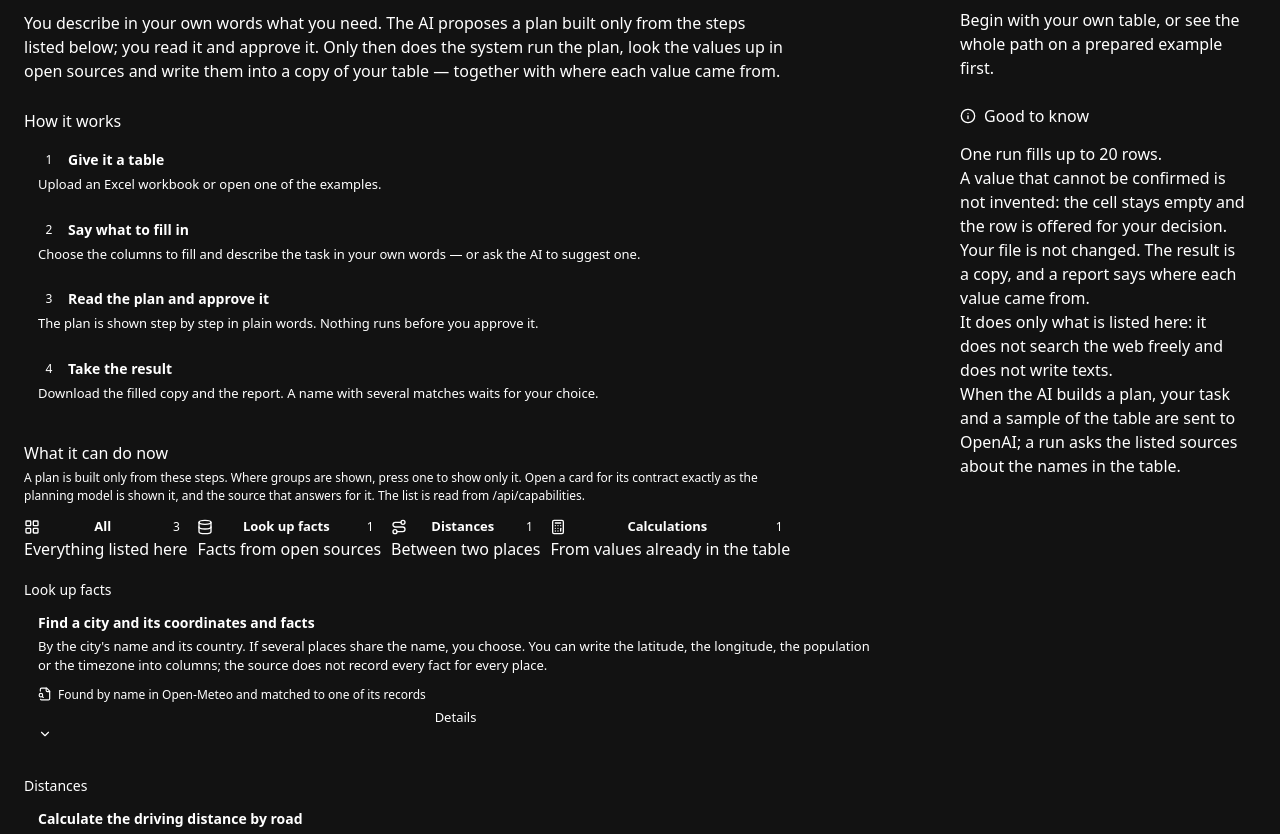
adds the contract in Advanced
Click the button "Details" at (456, 724), box [38,708,873,741]
(page scrolled)
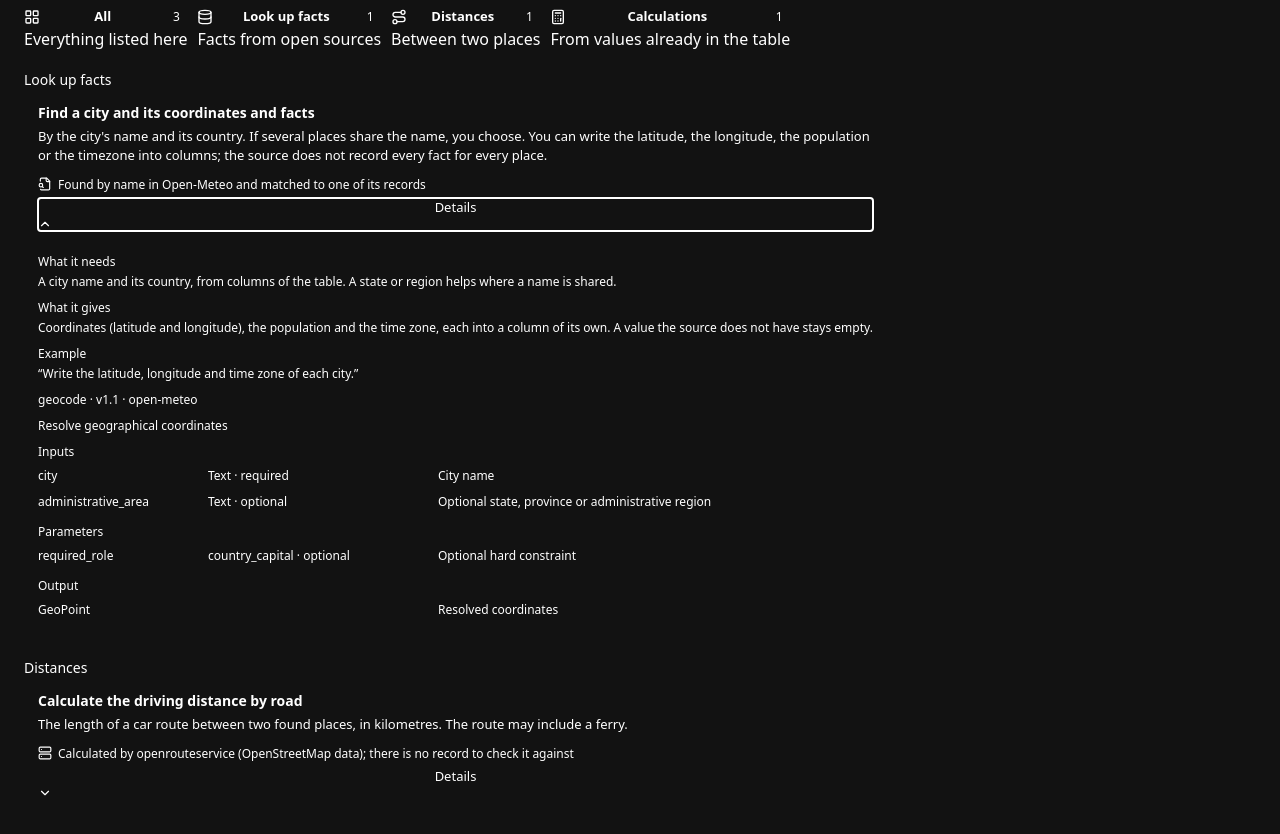
Result: the text "A city name and its country, from columns of the table. A state or region helps where a name is shared." is shown at [38,273,616,290]
Result: the element with test id "capability-contract" is shown at [38,391,711,618]
Result: the text "geocode · v1.1 · open-meteo" is shown at [38,391,198,408]
